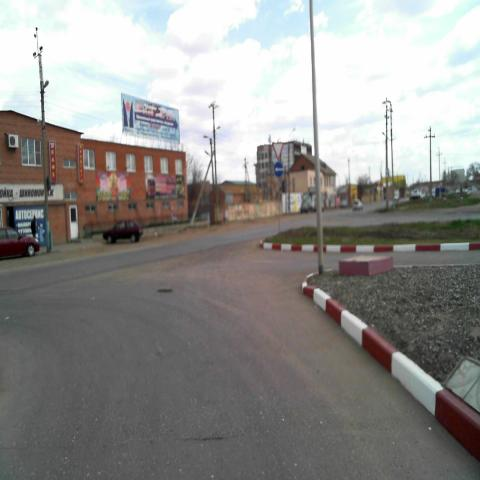4_1_2_2: (274, 161, 283, 178)
